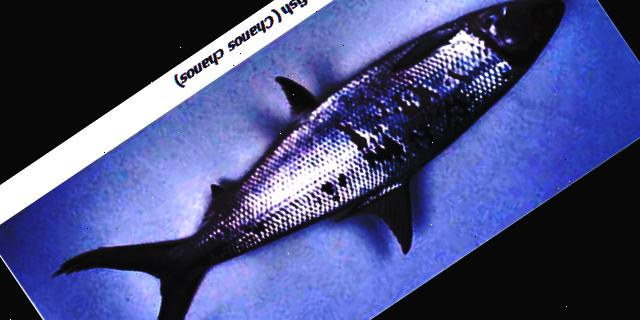Healthy Fish: (57, 0, 563, 320)
